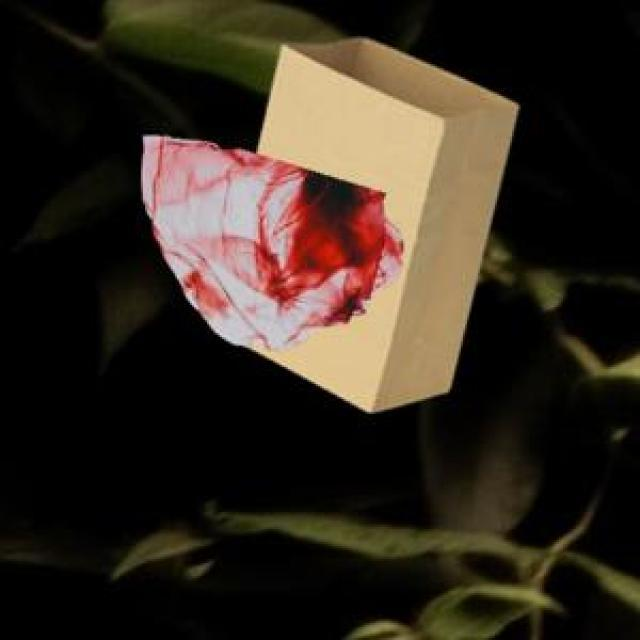paper: (243, 34, 514, 408)
